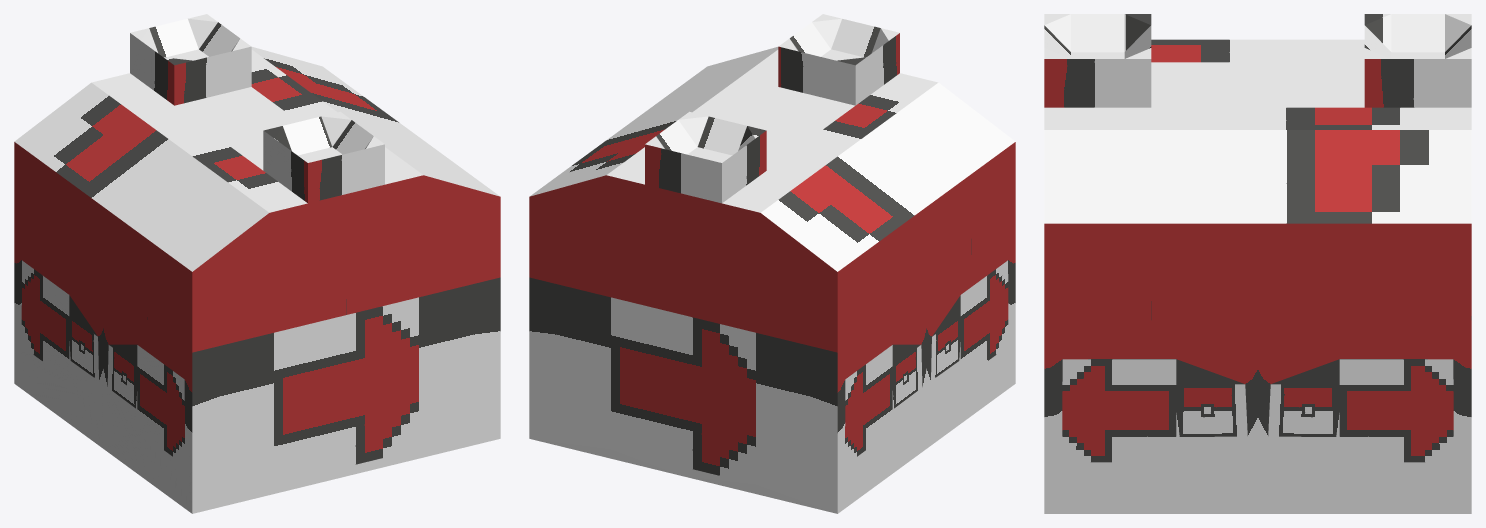
File: trading_table.obj
The picture shows the model from 3 angles, left to right: view 1: azimuth 30°, elevation 25°; view 2: azimuth 150°, elevation 25°; view 3: azimuth 270°, elevation 25°; orthographic projection. The views are drawn at different scales.
Parts seen in each view (by area): view 1: Cube; view 2: Cube; view 3: Cube.
Boxes of the visible parts, box(x1,y1,x2,y2) form: Cube: box(14, 14, 500, 513); Cube: box(529, 14, 1015, 513); Cube: box(1044, 14, 1471, 513).
Size of the model in its own units: 1 by 1 by 1.
